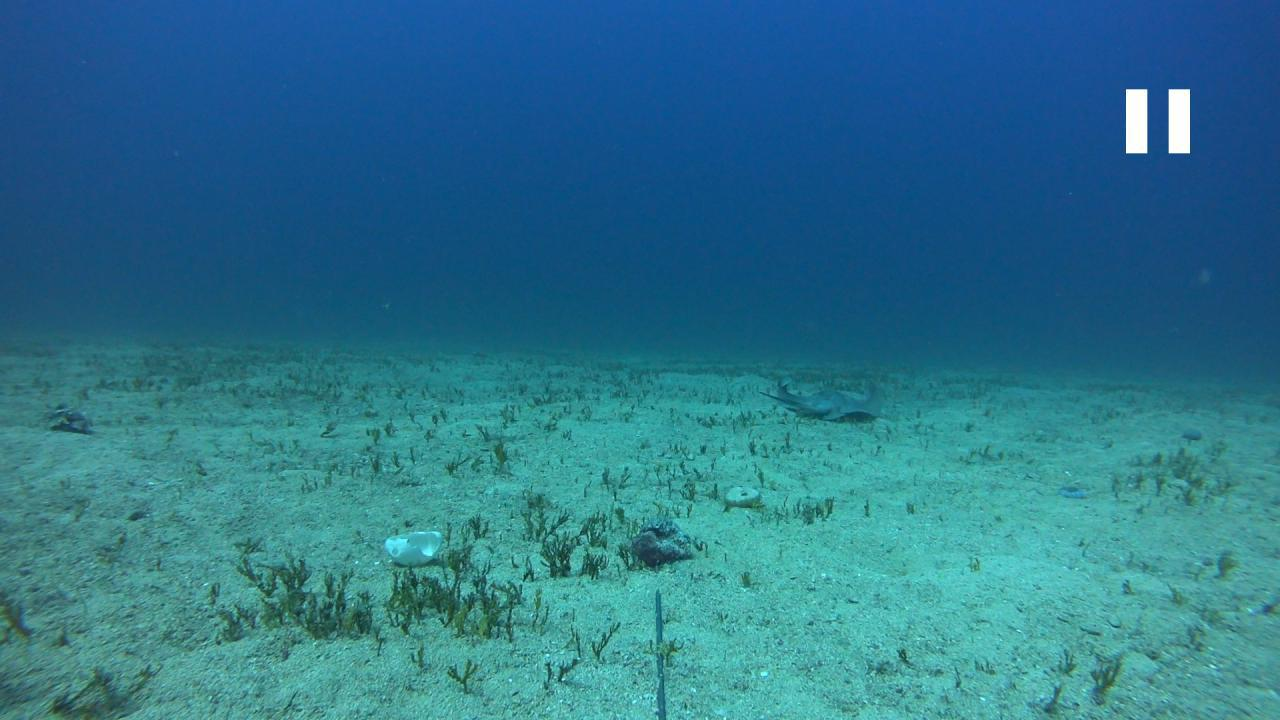dasyatis: (756, 382, 883, 420)
